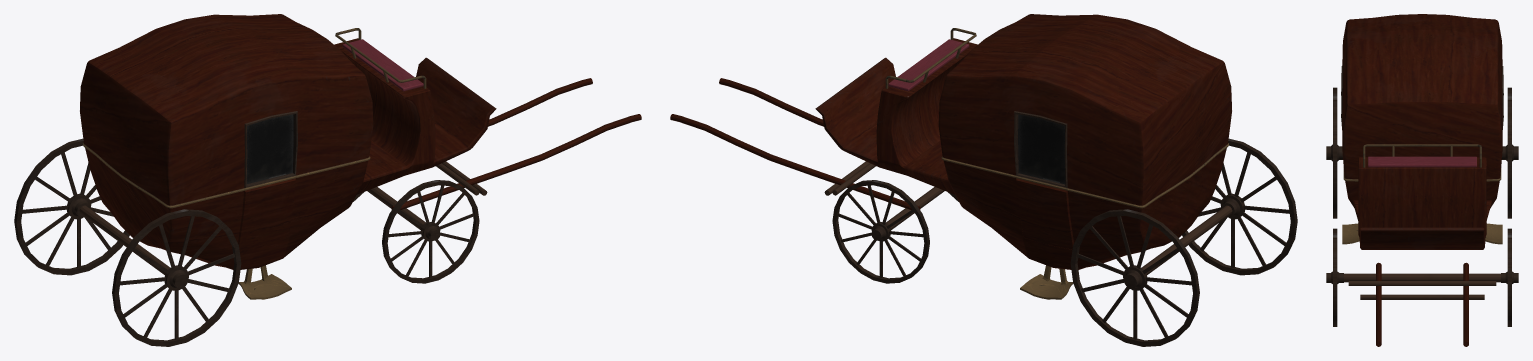
File: horse_carriage.glb
3 renders of one model, left to right at view 1: azimuth 30°, elevation 25°; view 2: azimuth 150°, elevation 25°; view 3: azimuth 270°, elevation 25°, orthographic. The views are drawn at different scales.
Parts seen in each view (by area): view 1: mesh_carriage; view 2: mesh_carriage; view 3: mesh_carriage.
Boxes of the visible parts, x1,y1,x2,y2 form: mesh_carriage: (14, 14, 641, 346); mesh_carriage: (670, 14, 1297, 346); mesh_carriage: (1326, 14, 1518, 346).
Bounding box in the file's own units: 6.01 × 2.5 × 2.03.
Materials: 1 (1 with a texture image).
